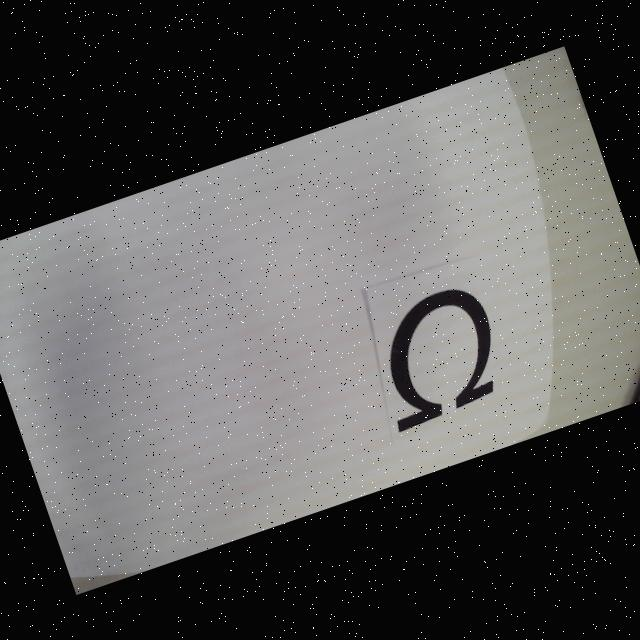OMEGA: (360, 279, 514, 433)
